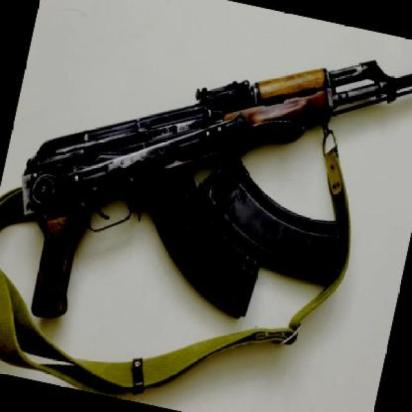Gun: (0, 0, 412, 395)
